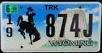placa de veiculo: (2, 1, 99, 51)
